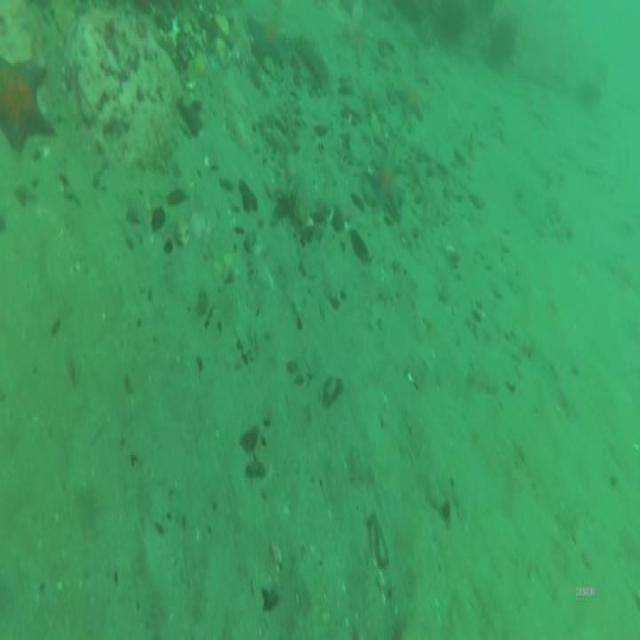echinus: (434, 0, 471, 51), (489, 10, 519, 70), (576, 71, 605, 114)
holothurian: (289, 28, 334, 98), (281, 76, 305, 158)
starfish: (0, 49, 59, 163), (364, 153, 408, 223), (244, 12, 289, 70), (390, 74, 431, 125)
